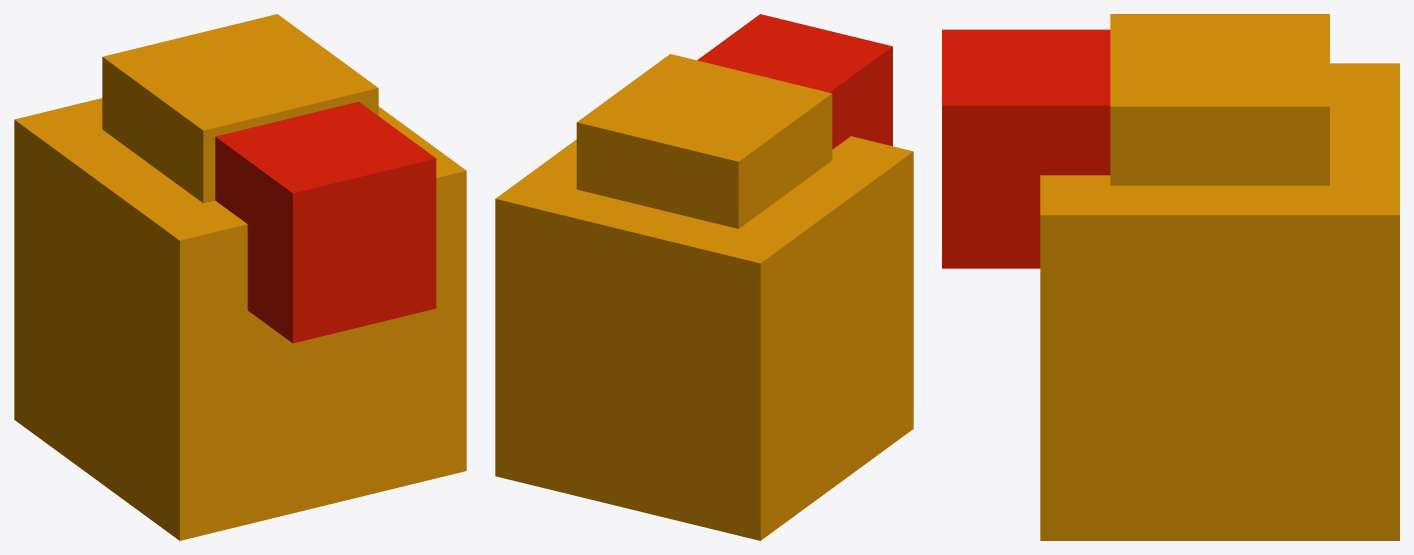
Rendered from materialtest.glb.
3 views of the same model, side by side, from view 1: azimuth 30°, elevation 25°; view 2: azimuth 150°, elevation 25°; view 3: azimuth 270°, elevation 25° (orthographic). The views are drawn at different scales.
Visible parts, largest first — view 1: Cube, Cube.001; view 2: Cube, Cube.001; view 3: Cube, Cube.001.
Part boxes in pixels (box(x1,y1,x2,y2)): Cube: box(14, 14, 466, 540); Cube.001: box(215, 101, 436, 343); Cube: box(495, 54, 913, 540); Cube.001: box(697, 14, 892, 149); Cube: box(1040, 14, 1399, 540); Cube.001: box(942, 29, 1110, 268).
Bounding box in the file's own units: 1 × 1.24 × 1.27.
